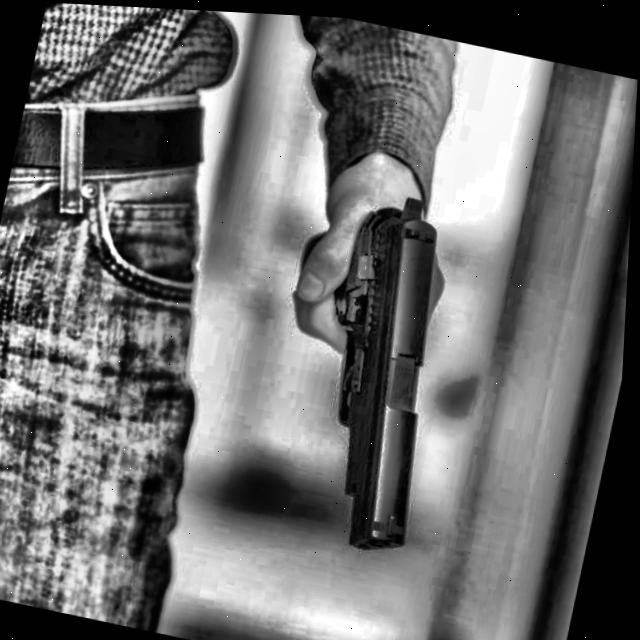pistol: (290, 188, 444, 571)
